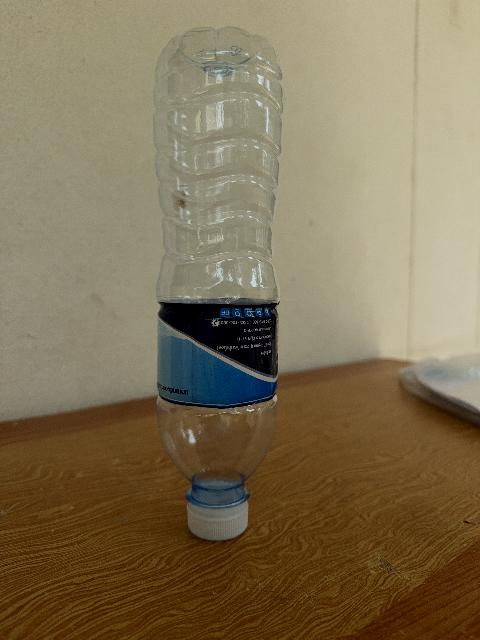bottle: (153, 28, 281, 539)
